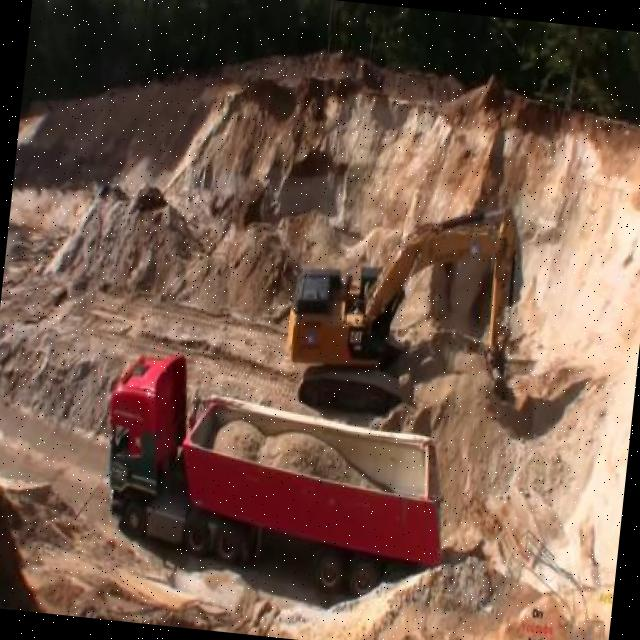Dump Truck: (86, 342, 461, 607)
Excavator: (278, 178, 528, 427)
